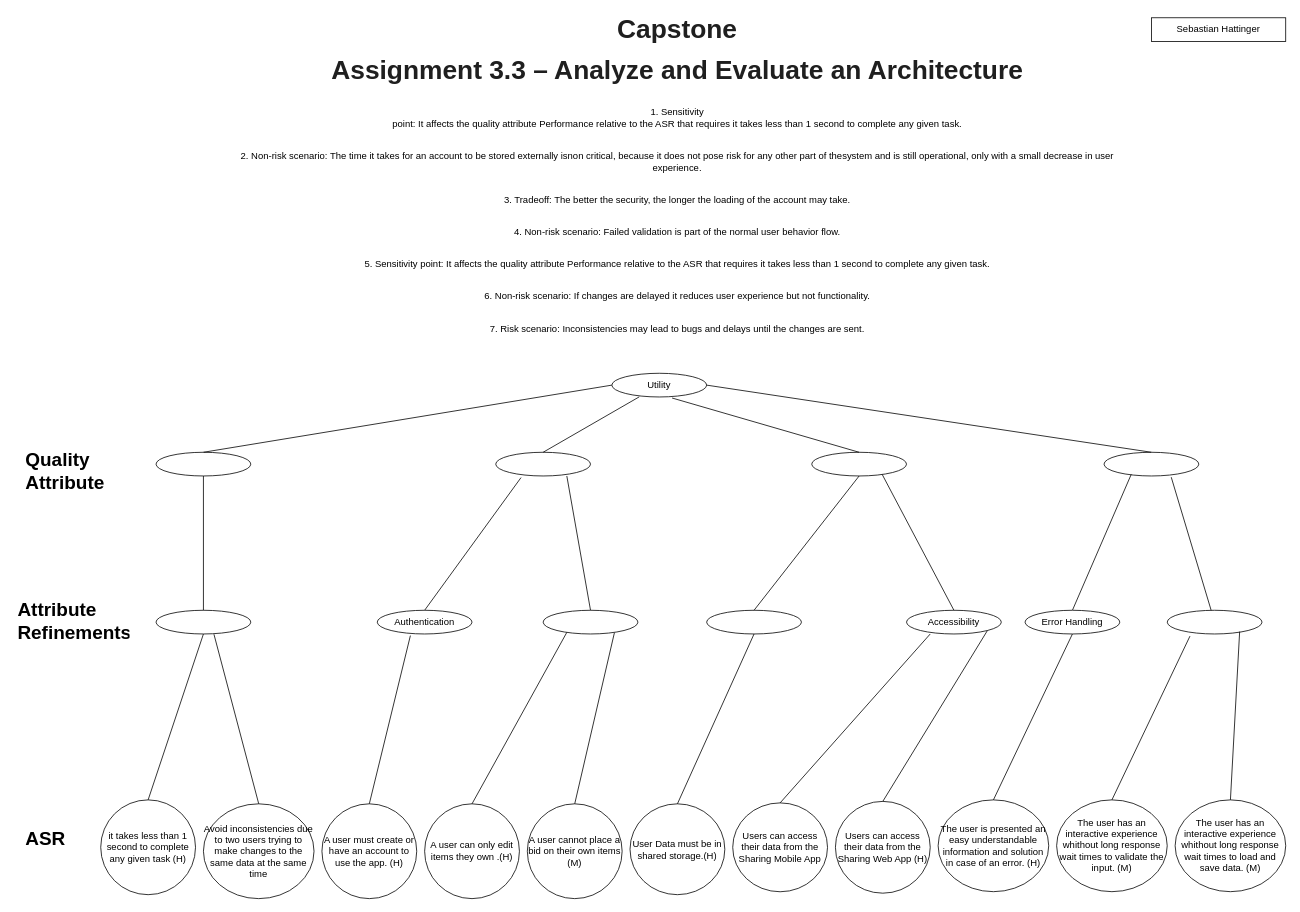
Some shapes in this 1300 by 912 pixel diagram are drawn without their labels. The shapes that lost their labels are listed below. From the top down, each one's box as (x1, y1, x2, y2) in pixels, then its label:
(155, 451, 251, 476): Performance
(495, 451, 591, 476): Security
(811, 451, 907, 476): Interoperability
(1103, 451, 1199, 476): Usability
(155, 609, 251, 634): Latency
(542, 609, 638, 634): Authorization
(706, 609, 801, 634): Shared Storage
(1166, 609, 1262, 634): Efiiciency
